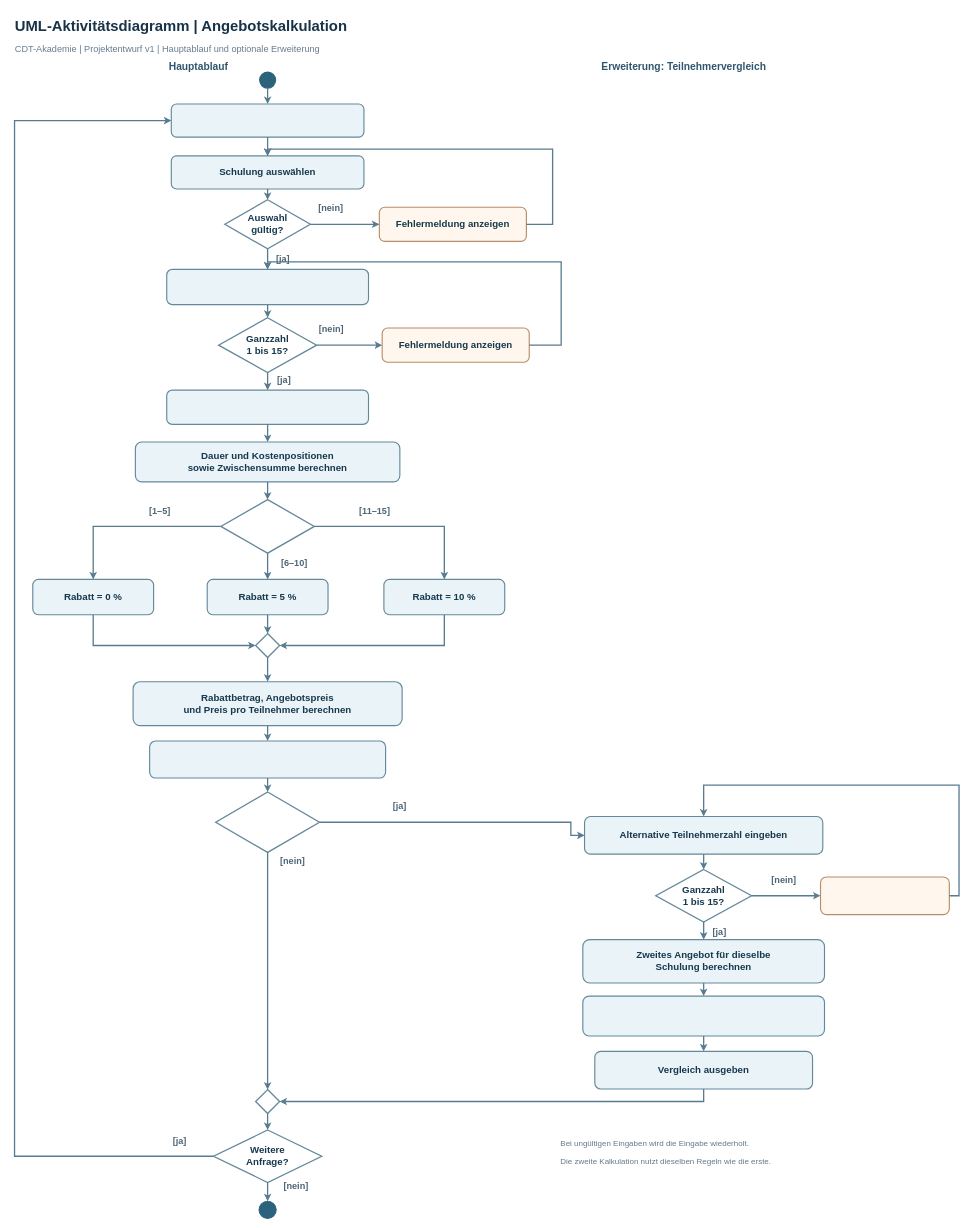
Image size: 974x1228. Some labels were removed from this diagram. Here are the shapes that lost their labels. From the top down, the centre of each, then its label:
point 267,120: Schulungsmenü anzeigen
point 267,286: Teilnehmerzahl eingeben
point 267,407: Anfrage erzeugen
point 267,526: Teilnehmer- zahl?
point 267,759: Angebot übersichtlich ausgeben
point 267,822: Teilnehmer- vergleich?
point 885,895: Fehlermeldung
point 703,1015: Gesamt- und Pro-Kopf- Preisdifferenz berechnen
